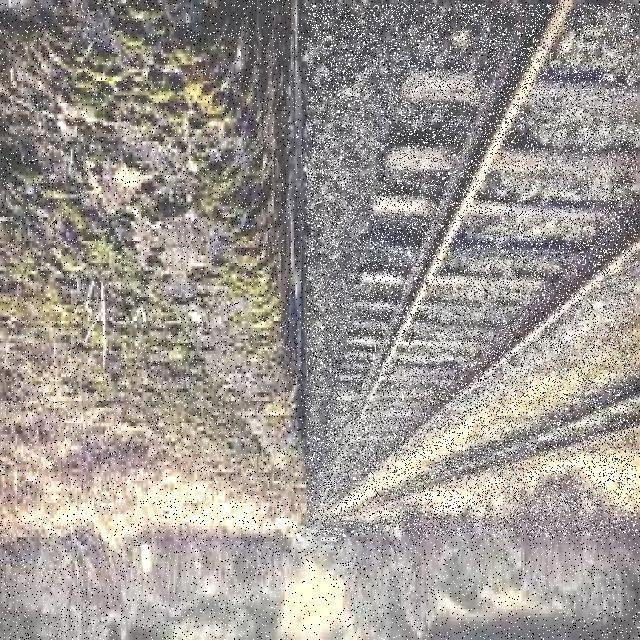rail: (308, 5, 638, 536)
